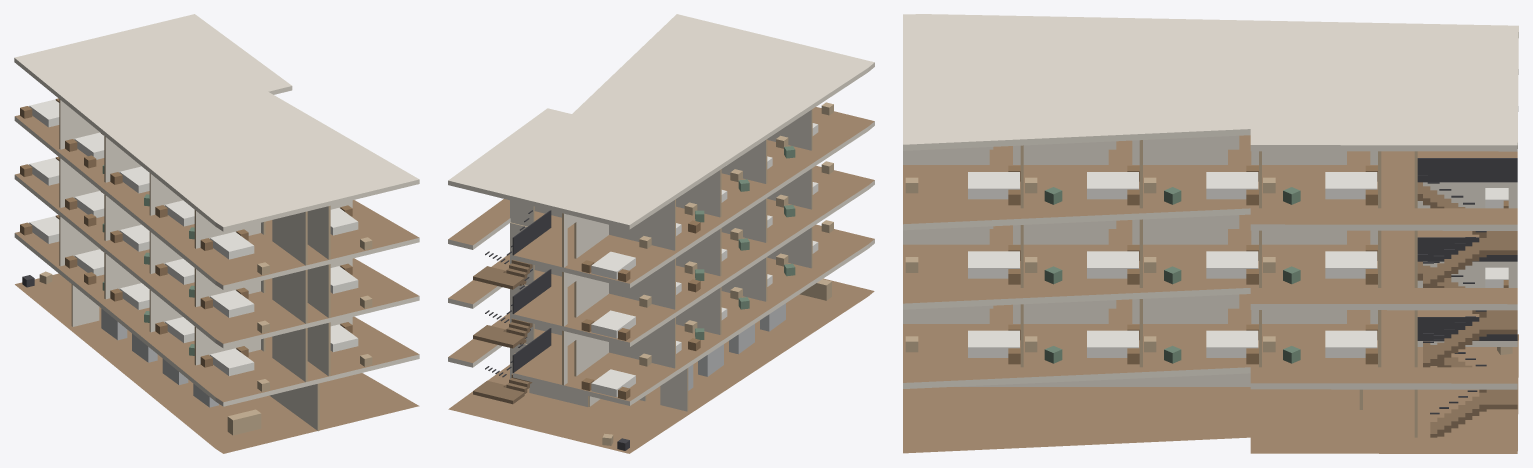
Rendered from interior.glb.
The picture shows the model from 3 angles, left to right: view 1: azimuth 30°, elevation 25°; view 2: azimuth 150°, elevation 25°; view 3: azimuth 270°, elevation 25°; orthographic projection. The views are drawn at different scales.
Visible parts, largest first — view 1: slabs, partitions, coarse-s2, coarse-s3, coarse-s1, coarse-s0; view 2: slabs, partitions, stair, coarse-s2, coarse-s3, coarse-s1, coarse-s0; view 3: slabs, partitions, stair, coarse-s1, coarse-s2, coarse-s3.
Boxes of the visible parts, left/top/right/bottom form: slabs: left=14, top=14, right=419, bottom=453; partitions: left=59, top=99, right=352, bottom=431; coarse-s2: left=20, top=156, right=372, bottom=333; coarse-s3: left=20, top=98, right=372, bottom=275; coarse-s1: left=20, top=215, right=372, bottom=391; coarse-s0: left=22, top=271, right=261, bottom=435; slabs: left=448, top=14, right=874, bottom=453; partitions: left=510, top=109, right=812, bottom=411; stair: left=473, top=210, right=551, bottom=404; coarse-s2: left=581, top=161, right=833, bottom=340; coarse-s3: left=581, top=102, right=833, bottom=281; coarse-s1: left=581, top=220, right=833, bottom=399; coarse-s0: left=602, top=279, right=831, bottom=450; slabs: left=903, top=14, right=1518, bottom=453; partitions: left=903, top=135, right=1517, bottom=437; stair: left=1417, top=158, right=1517, bottom=437; coarse-s1: left=905, top=267, right=1508, bottom=364; coarse-s2: left=905, top=188, right=1508, bottom=284; coarse-s3: left=905, top=165, right=1377, bottom=205.
Size of the model in its own units: 11.92 by 13.08 by 23.62.
